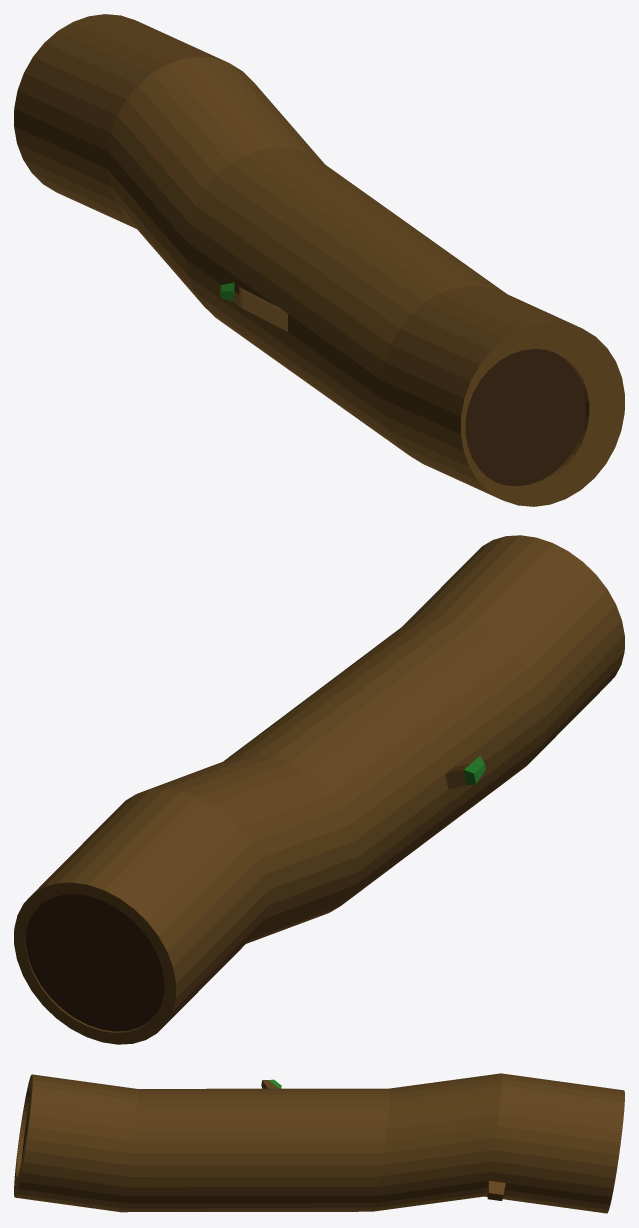
The model's file is Weiland_Boom_GGJ.fbx.
3 renders of one model, top to bottom at view 1: azimuth 30°, elevation 25°; view 2: azimuth 150°, elevation 25°; view 3: azimuth 270°, elevation 25°, orthographic. The views are drawn at different scales.
Parts seen in each view (by area): view 1: Cylinder; view 2: Cylinder; view 3: Cylinder.
Part boxes in pixels (box(x1,y1,x2,y2)): Cylinder: box(14, 14, 624, 506); Cylinder: box(14, 535, 624, 1044); Cylinder: box(14, 1073, 624, 1213).
Bounding box in the file's own units: 103 × 84.87 × 364.
